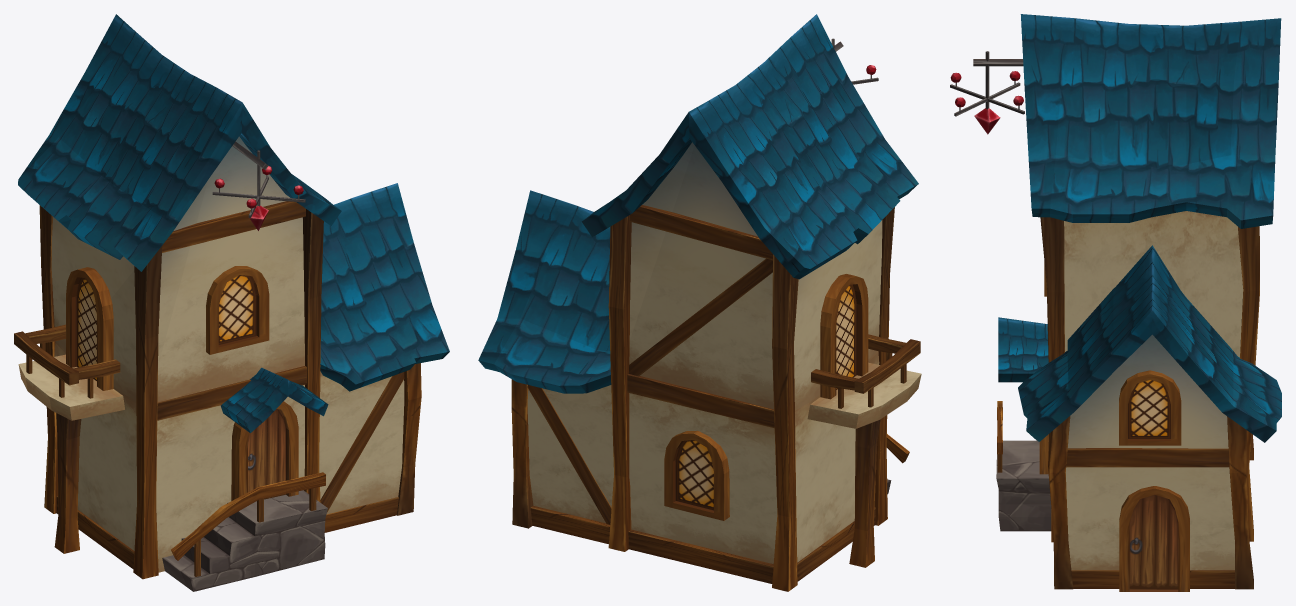
File: 2decorative_house1.glb
3 renders of one model, left to right at view 1: azimuth 30°, elevation 25°; view 2: azimuth 150°, elevation 25°; view 3: azimuth 270°, elevation 25°, orthographic. The views are drawn at different scales.
Parts seen in each view (by area): view 1: Fantasy_House_6_Fantasy_House_6_0; view 2: Fantasy_House_6_Fantasy_House_6_0; view 3: Fantasy_House_6_Fantasy_House_6_0.
Boxes of the visible parts, x1=… form: Fantasy_House_6_Fantasy_House_6_0: x1=14, y1=14, x2=449, y2=591; Fantasy_House_6_Fantasy_House_6_0: x1=478, y1=14, x2=921, y2=591; Fantasy_House_6_Fantasy_House_6_0: x1=950, y1=14, x2=1281, y2=591.
Bounding box in the file's own units: 292 × 360 × 225.
1 material, 1 textured.
